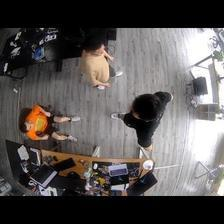normal: (109, 91, 174, 152), (21, 103, 81, 144), (78, 35, 123, 88)
